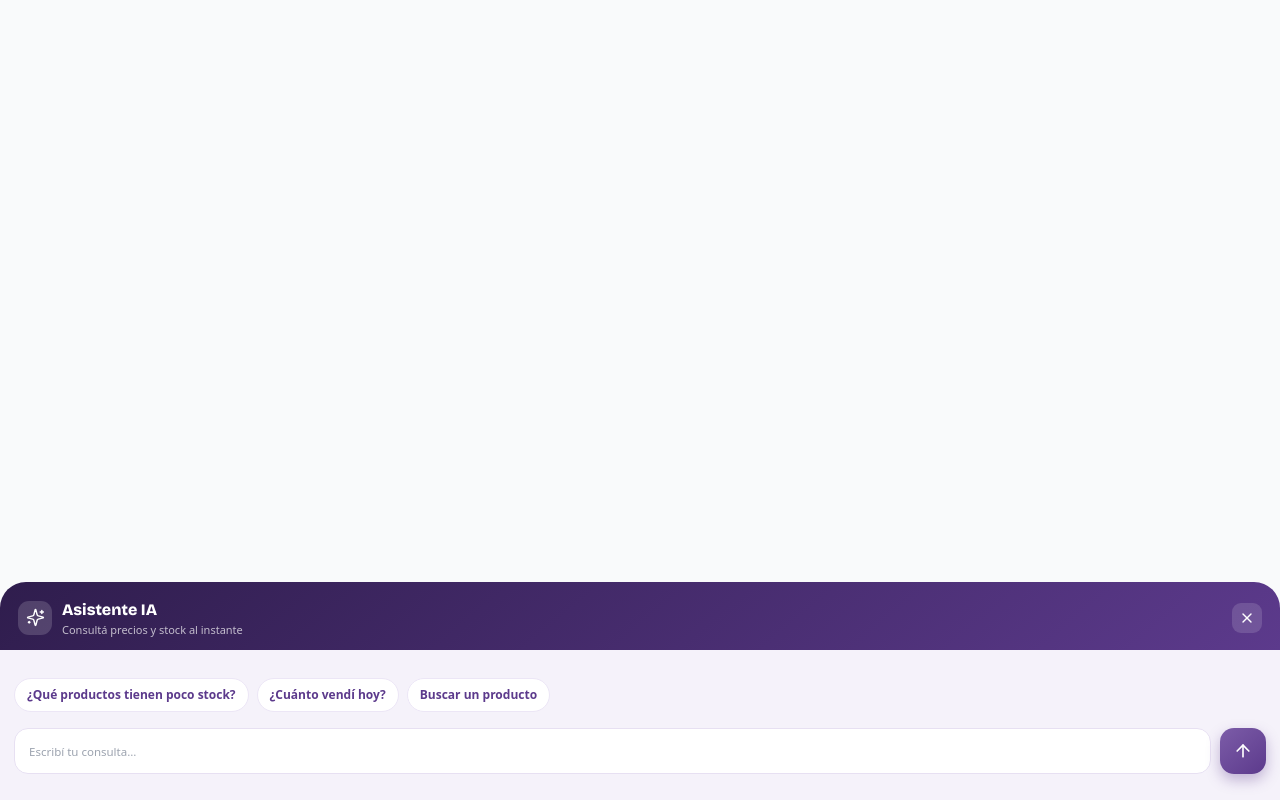
AIAssistantSheet — service failure › shows a visible error message in the thread when aiService.chat rejects
The image size is (1280, 800).
Type "Buscar tornillos" into the field with placeholder "Escribí tu consulta…" at x=612, y=751, box [14,728,1211,774]
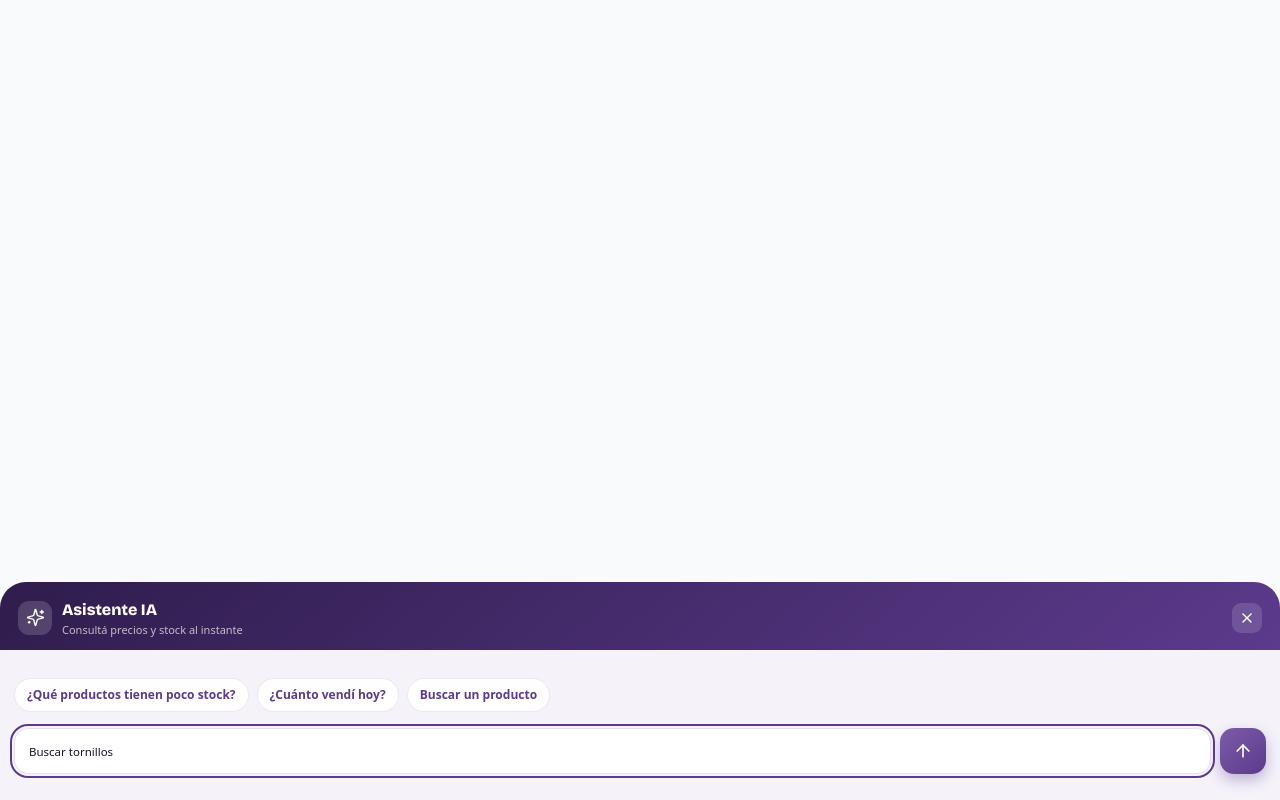
Click the button named "enviar" at x=1243, y=751, box [1220,728,1266,774]
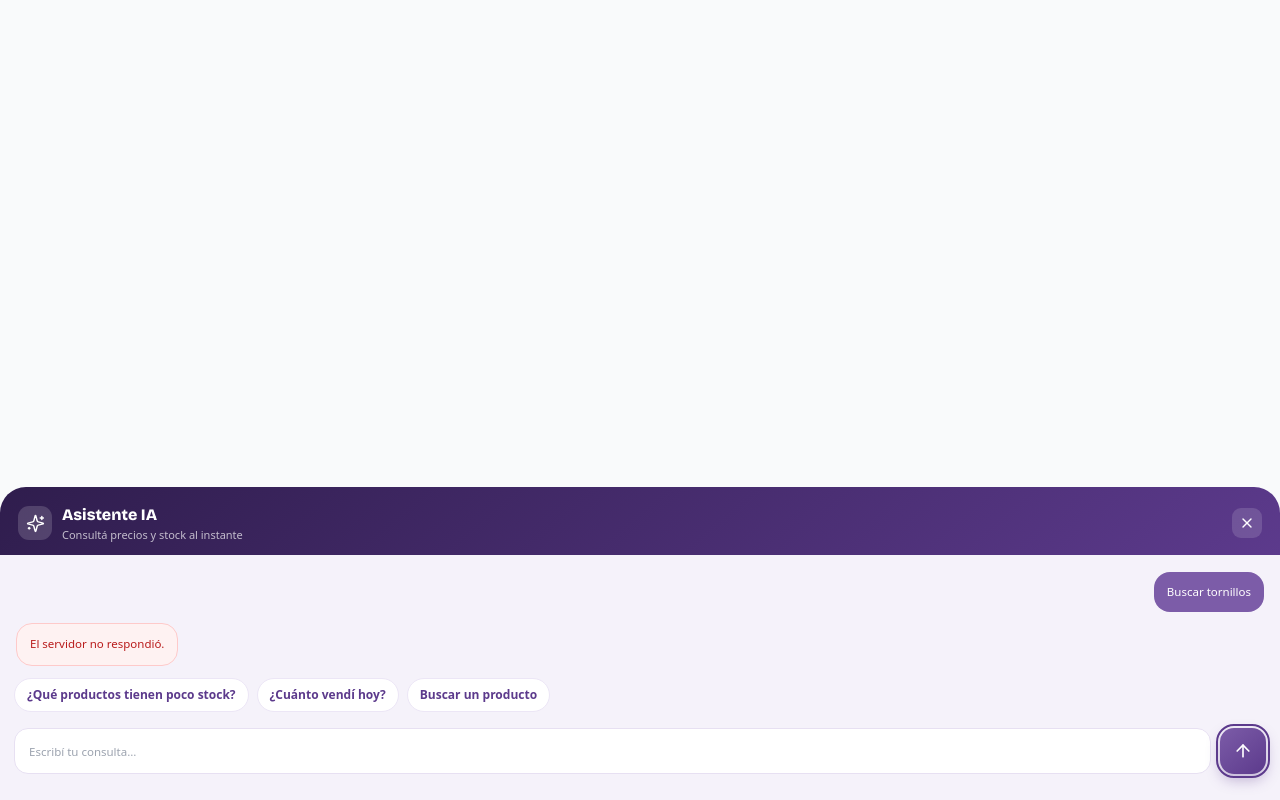
Now the message reads "El servidor no respondió.", box [30,636,164,651]
